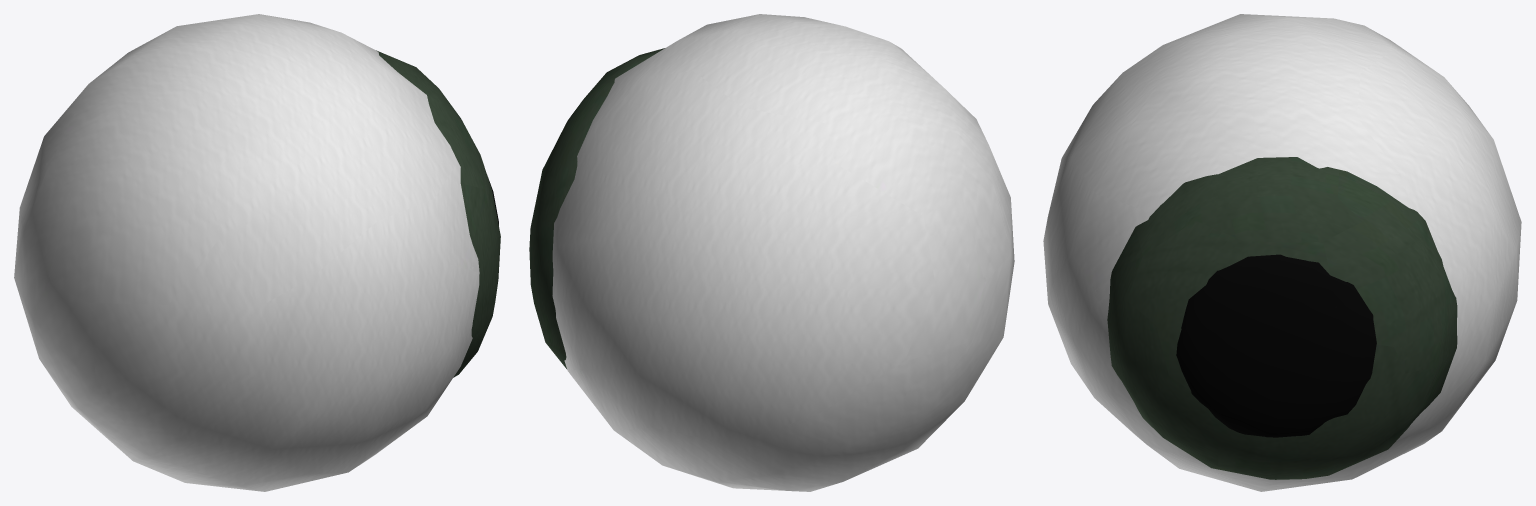
File: green-eye.dae
The picture shows the model from 3 angles, left to right: view 1: azimuth 30°, elevation 25°; view 2: azimuth 150°, elevation 25°; view 3: azimuth 270°, elevation 25°; orthographic projection.
Parts seen in each view (by area): view 1: Sphere_001; view 2: Sphere_001; view 3: Sphere_001.
Boxes of the visible parts, left/top/right/bottom form: Sphere_001: left=14, top=14, right=500, bottom=491; Sphere_001: left=529, top=14, right=1014, bottom=491; Sphere_001: left=1043, top=14, right=1521, bottom=491.
Bounding box in the file's own units: 0.1334 × 0.1315 × 0.1313.
Materials: 1 (1 with a texture image).
